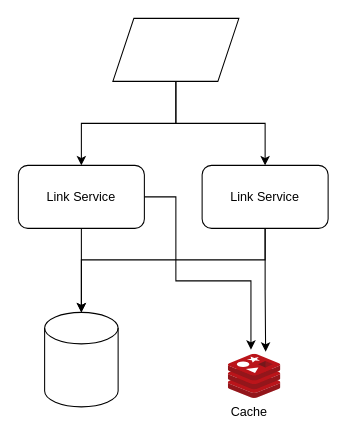
The diagram is 346 pixels wide and 446 high, and some of its shapes have lost their labels. The shapes that lost their labels are listed below. From the top down, each one's centre as x and y in pixels, then its label:
At point (175, 49): "Gateway".
At point (81, 359): "Link".
